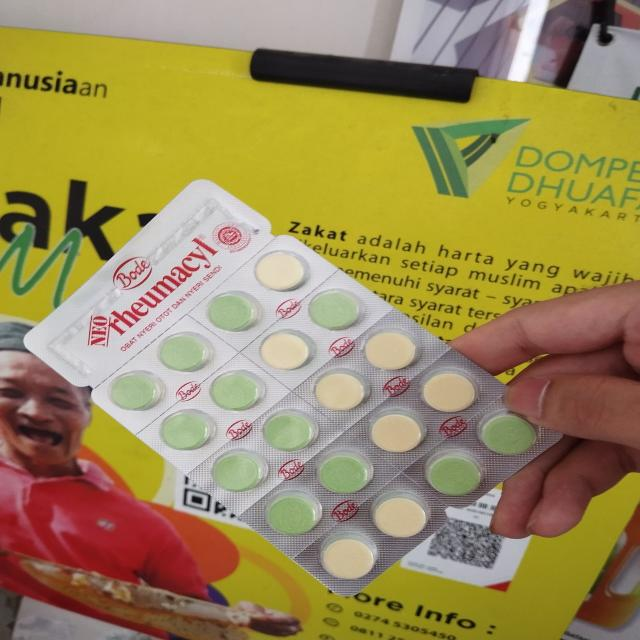B3: (23, 179, 561, 595)
